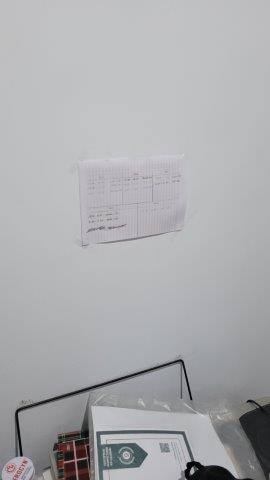kertas: (73, 159, 191, 245), (95, 412, 240, 480)
